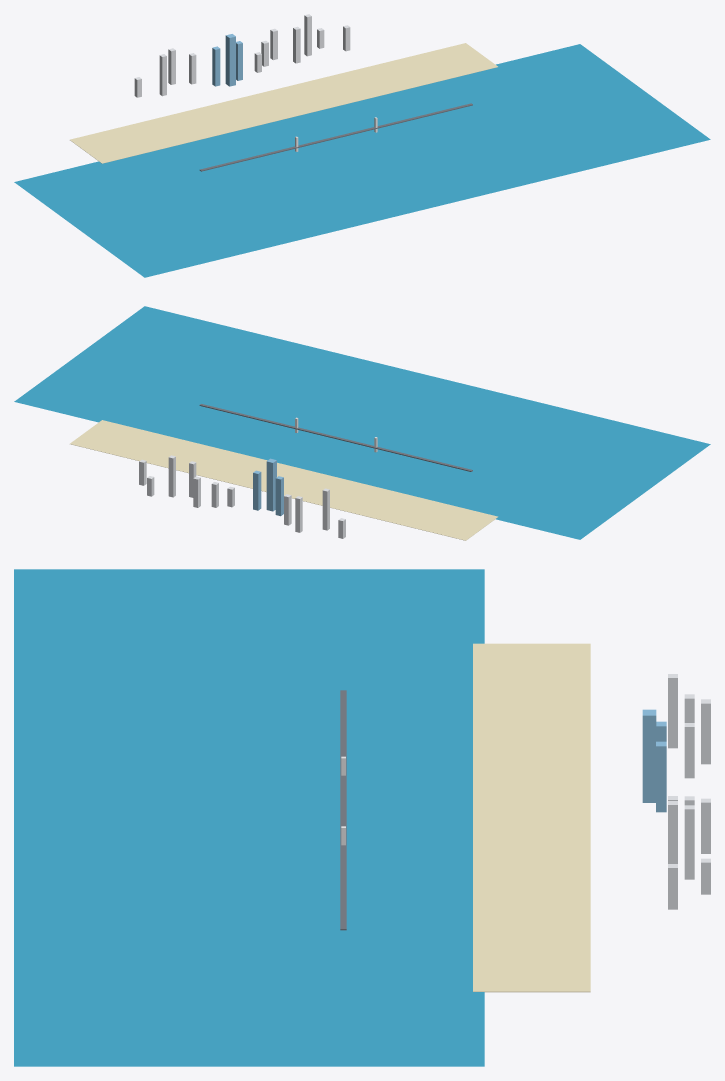
Rendered from city_beach.glb.
3 renders of one model, top to bottom at view 1: azimuth 30°, elevation 25°; view 2: azimuth 150°, elevation 25°; view 3: azimuth 270°, elevation 25°, orthographic. The views are drawn at different scales.
Visible parts, largest first — view 1: BeachAndOcean, SkyscrapersAndBridge; view 2: BeachAndOcean, SkyscrapersAndBridge; view 3: BeachAndOcean, SkyscrapersAndBridge.
Part boxes in pixels (left/top/right/bottom): BeachAndOcean: left=14, top=43, right=710, bottom=277; SkyscrapersAndBridge: left=134, top=14, right=472, bottom=171; BeachAndOcean: left=14, top=306, right=710, bottom=540; SkyscrapersAndBridge: left=139, top=404, right=472, bottom=538; BeachAndOcean: left=14, top=569, right=590, bottom=1066; SkyscrapersAndBridge: left=340, top=674, right=710, bottom=930.
Size of the model in its own units: 5000 by 410 by 2961.
